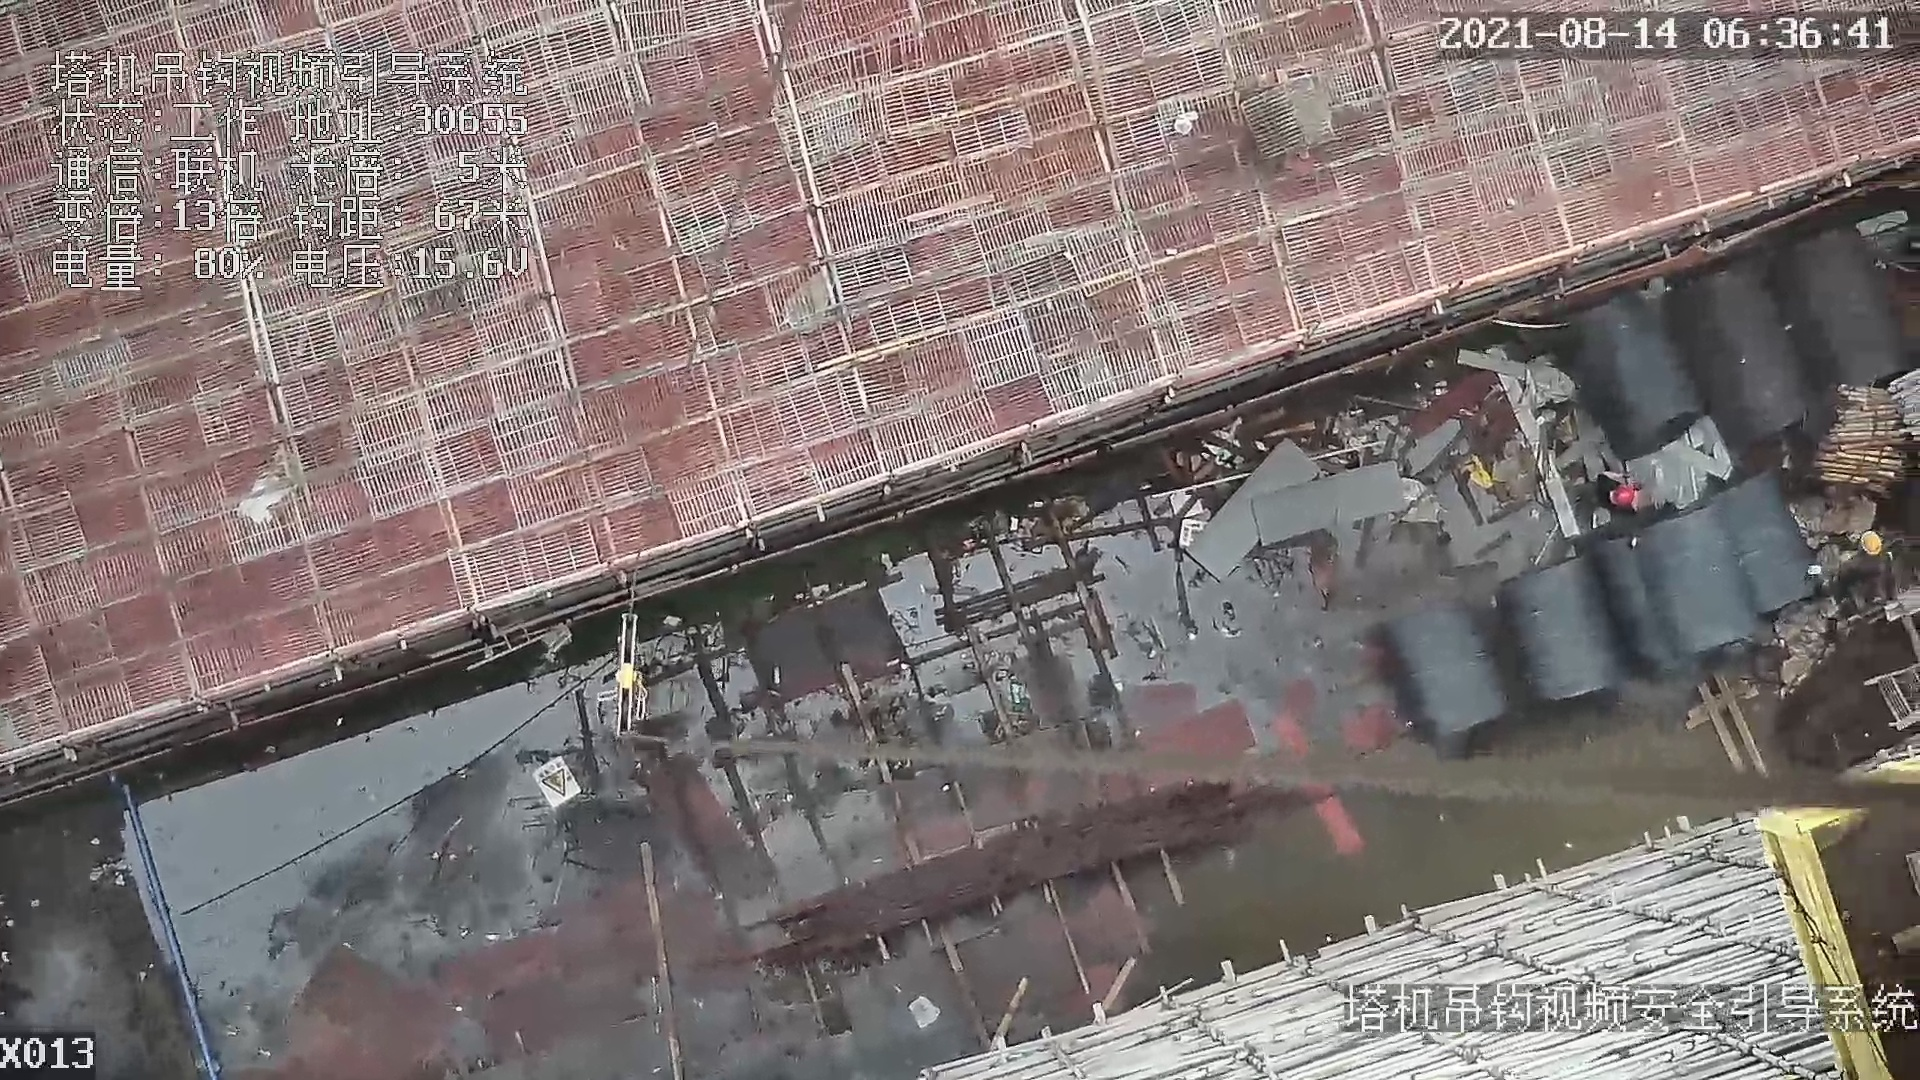helmet: (1612, 481, 1640, 513), (1859, 530, 1885, 556)
hook: (592, 612, 654, 723)
person: (1588, 458, 1651, 527)
